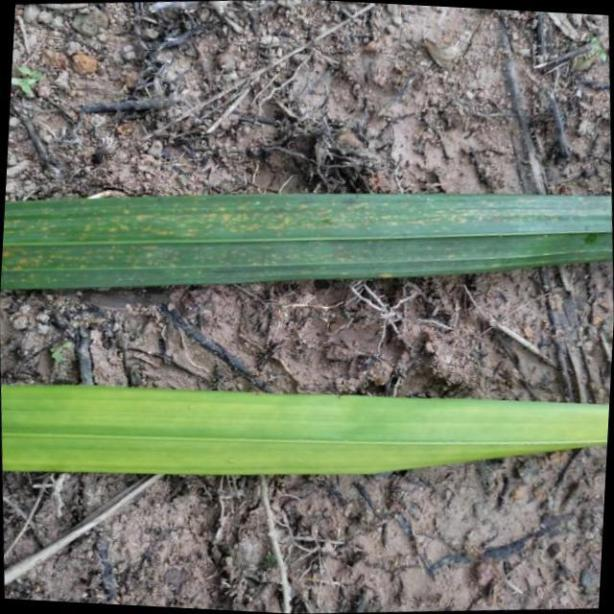nitrogen: (0, 376, 614, 478), (0, 189, 614, 286)
